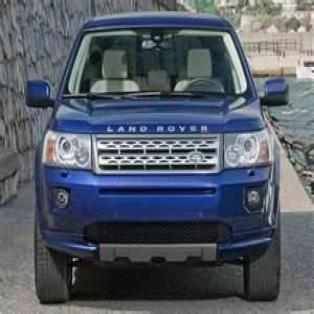Auto: (26, 14, 281, 307)
